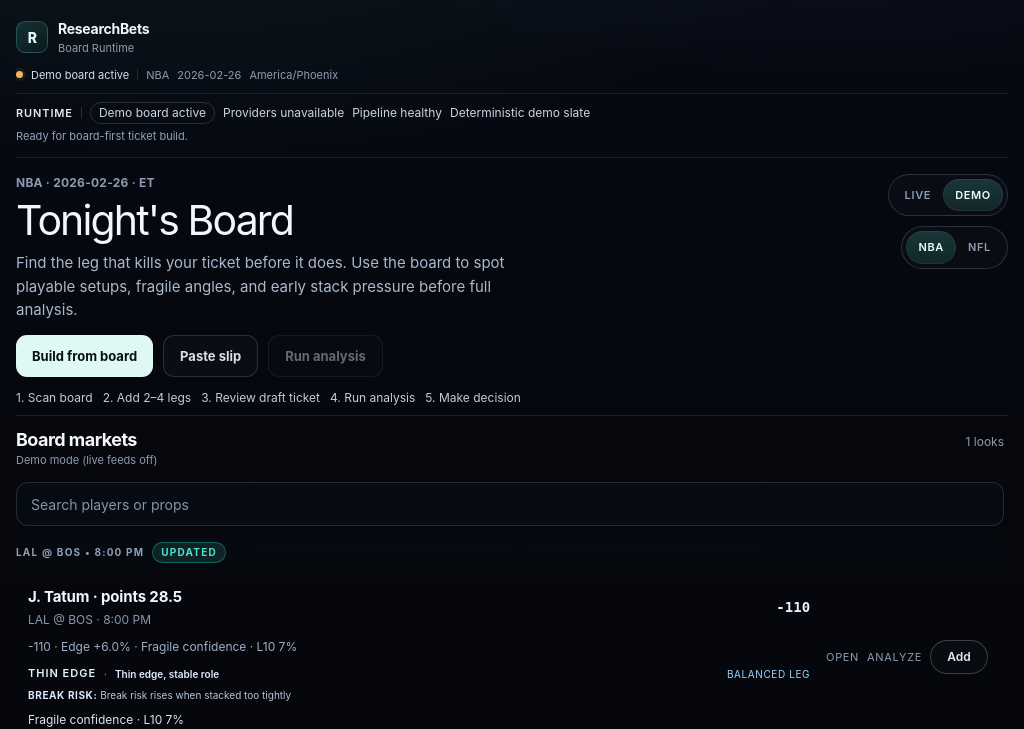
cockpit route integration › analyze action adds the leg and keeps row navigation scoped
This screenshot has width=1024, height=729.
Click the button "Analyze": x=895, y=657 x1=867 y1=649 x2=922 y2=666
(page scrolled)
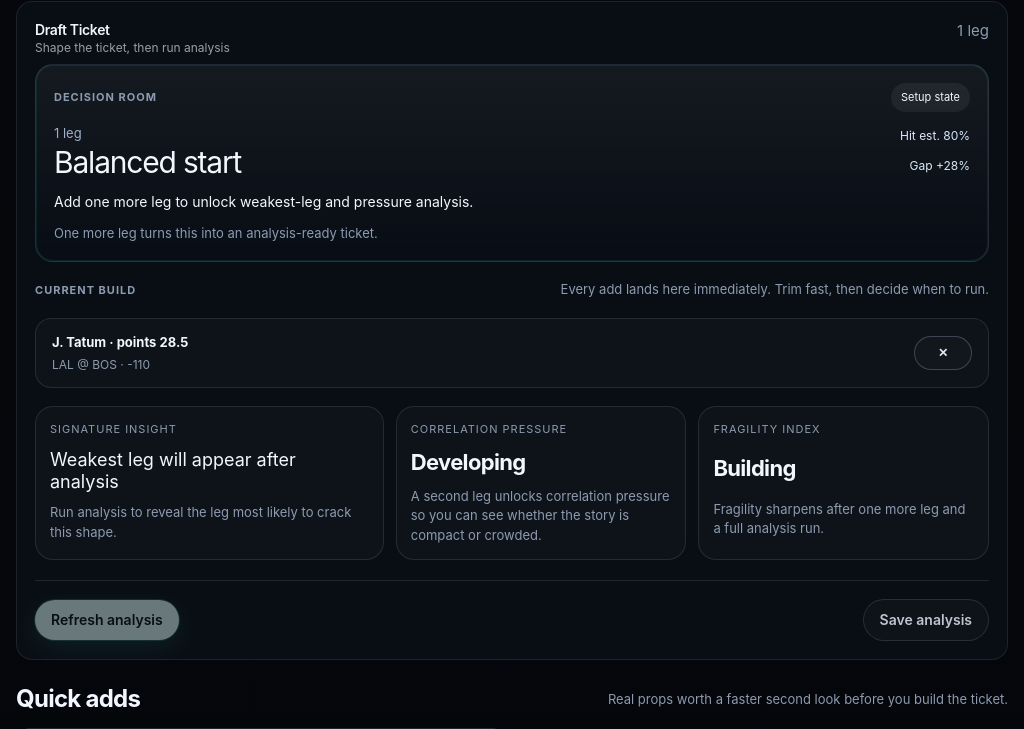
Result: the 1st text "1 leg" is shown at x1=957 y1=21 x2=989 y2=40
